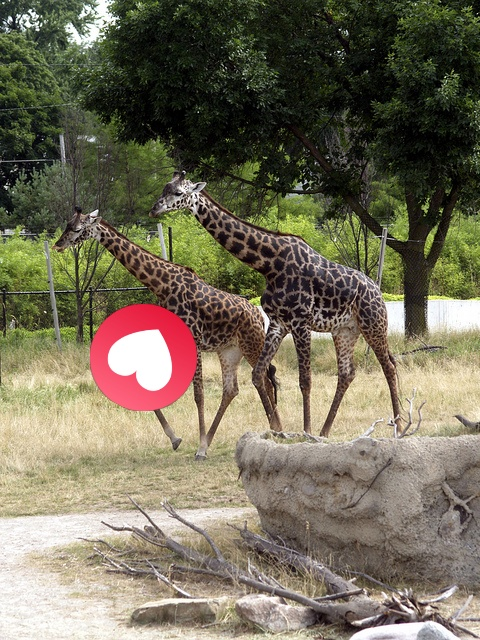love: (90, 304, 197, 411)
